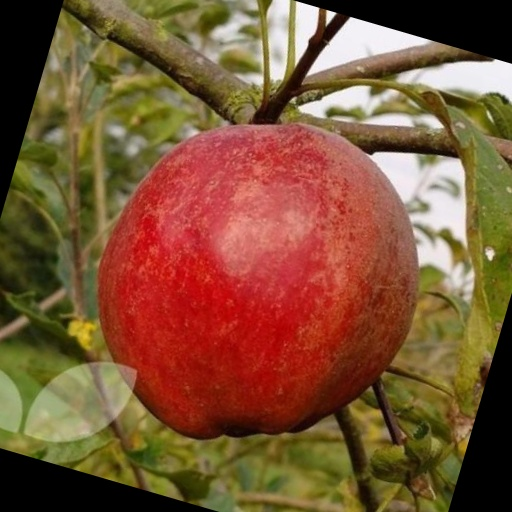fruit: (0, 101, 211, 480)
